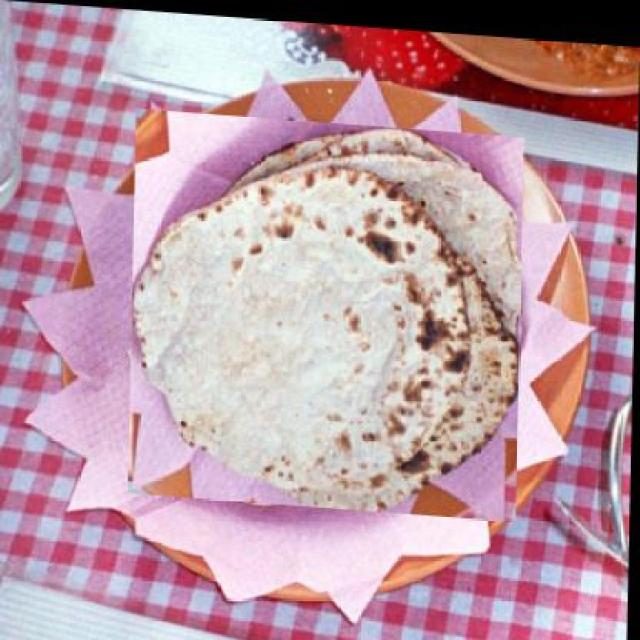chapati: (129, 106, 526, 516)
